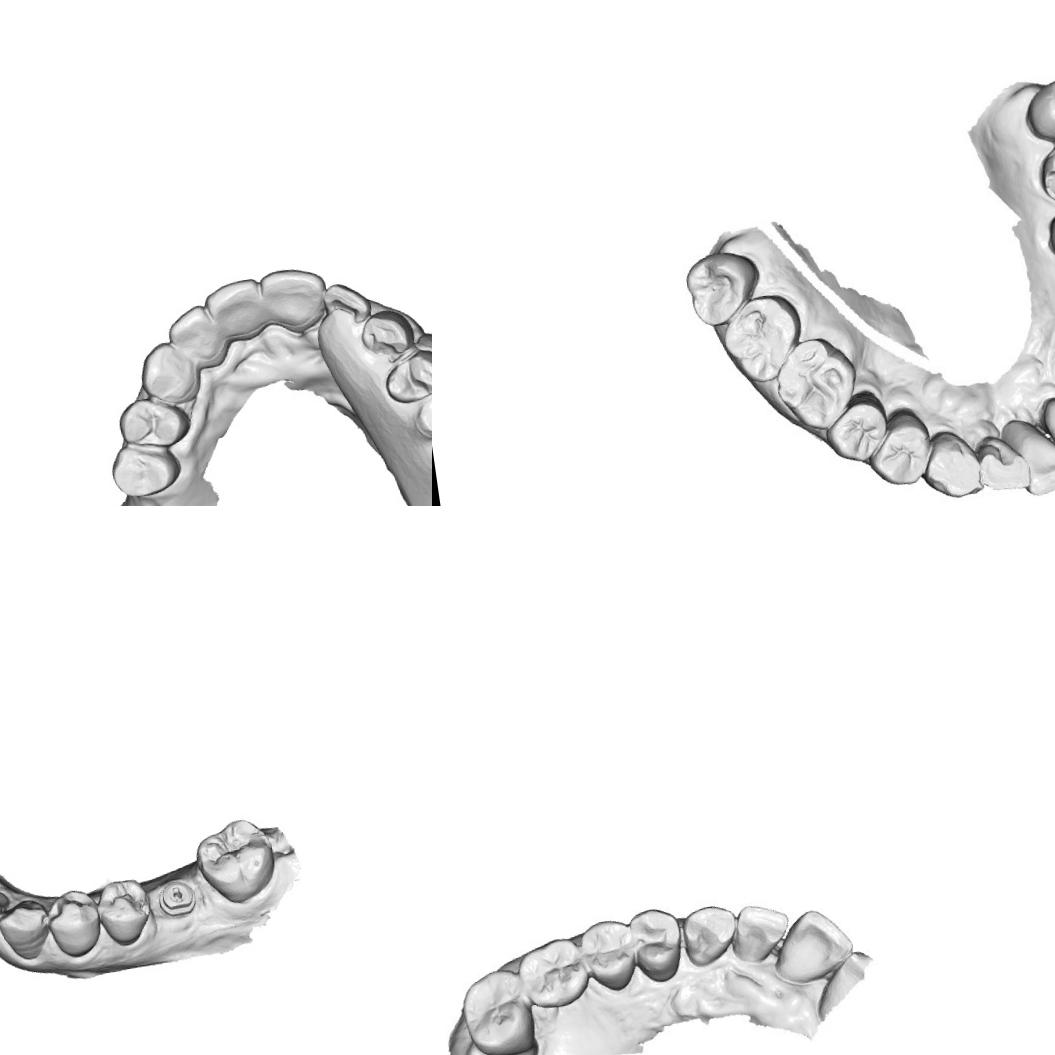canine: (134, 335, 202, 408), (678, 897, 741, 969), (921, 436, 983, 506), (0, 897, 57, 966), (358, 302, 420, 364)
implant_minus: (154, 873, 198, 920)
incisor: (765, 901, 858, 988), (254, 262, 331, 330), (726, 900, 795, 968), (1004, 416, 1055, 503), (200, 274, 267, 340), (162, 300, 225, 370), (974, 432, 1036, 501), (320, 272, 374, 325), (0, 876, 18, 934)
molar: (190, 812, 282, 910), (772, 338, 856, 438), (453, 963, 539, 1055), (514, 932, 596, 1011), (724, 300, 794, 378), (684, 253, 752, 323), (1021, 65, 1055, 143), (1035, 131, 1055, 210)
premolar: (112, 390, 195, 458), (624, 902, 688, 988), (575, 914, 641, 996), (104, 438, 184, 502), (824, 394, 892, 466), (42, 885, 106, 961), (94, 874, 158, 949), (871, 418, 932, 490), (379, 345, 432, 410), (408, 379, 432, 444)
